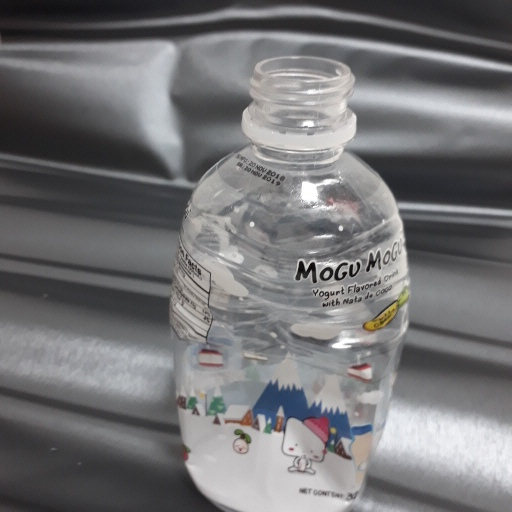Plastic_0: (170, 55, 415, 512)
